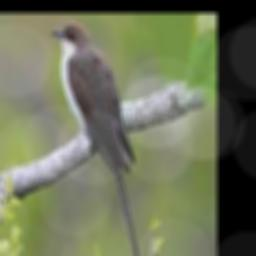Cuckoo: (52, 22, 141, 256)
